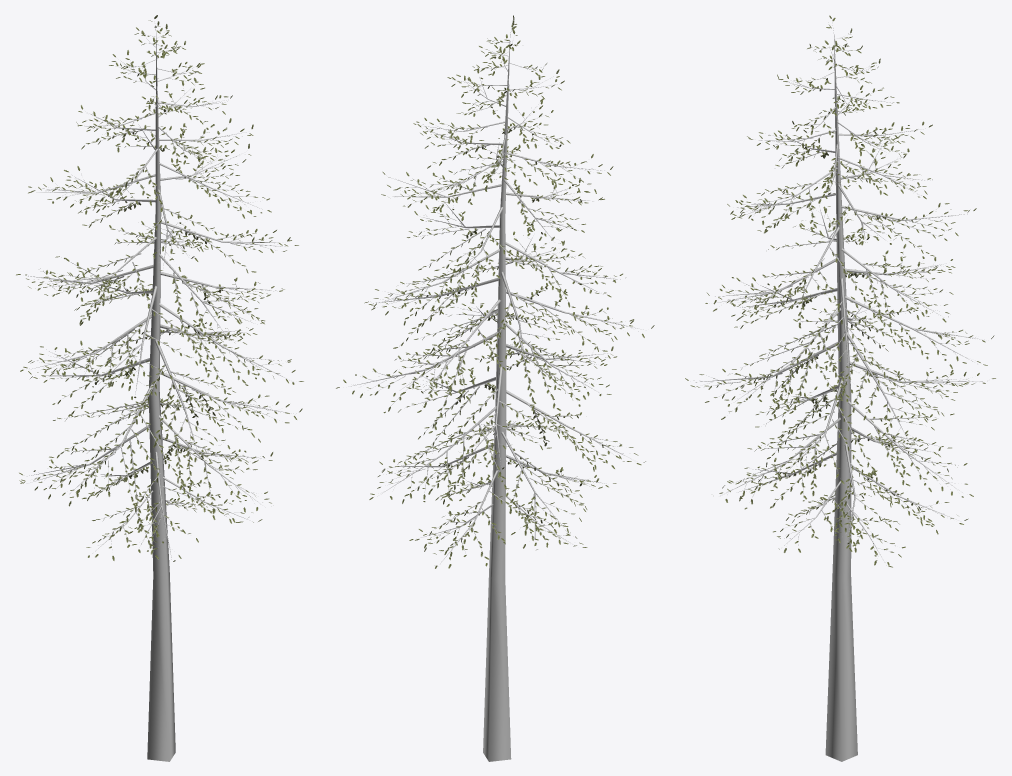
File: Sapin_Maxence.fbx
The picture shows the model from 3 angles, left to right: view 1: azimuth 30°, elevation 25°; view 2: azimuth 150°, elevation 25°; view 3: azimuth 270°, elevation 25°; orthographic projection.
Parts seen in each view (by area): view 1: tree, leaves; view 2: tree, leaves; view 3: tree, leaves.
Part boxes in pixels (x1,y1,x2,y2): tree: (26,25,293,761); leaves: (16,15,303,561); tree: (351,27,643,761); leaves: (336,15,654,568); tree: (695,25,984,761); leaves: (685,15,995,567).
Bounding box in the file's own units: 1694 × 4661 × 1801.
